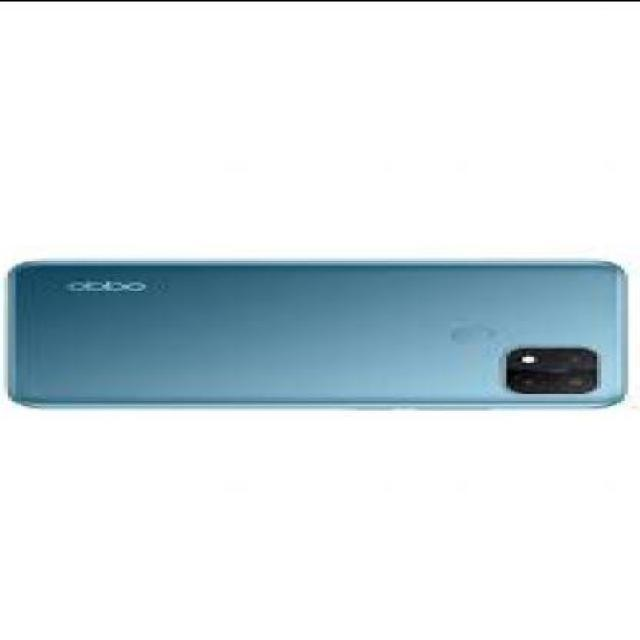phone: (8, 258, 624, 409)
